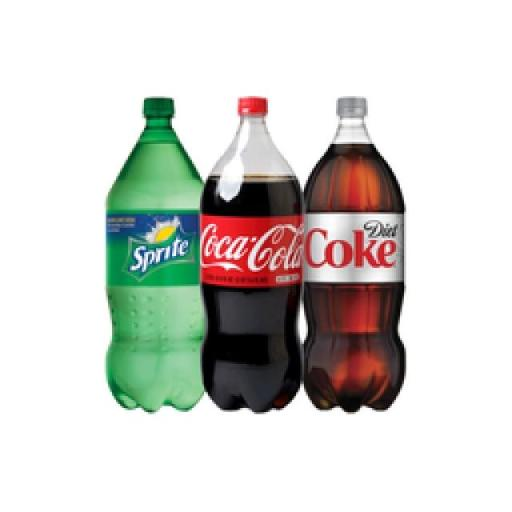plastic: (198, 94, 304, 412), (302, 94, 406, 412), (104, 94, 204, 412)
